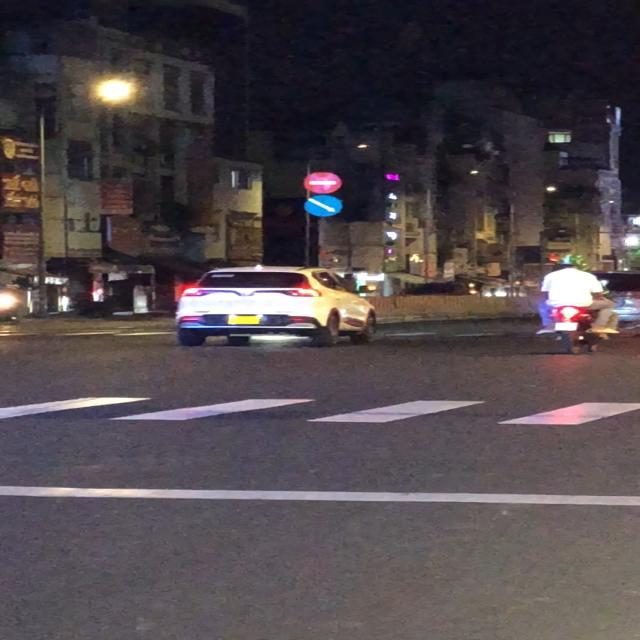Bien bao cam di nguoc chieu: (303, 170, 345, 195)
Bien bao huong phai di vong chuong ngai vat: (303, 194, 347, 218)
